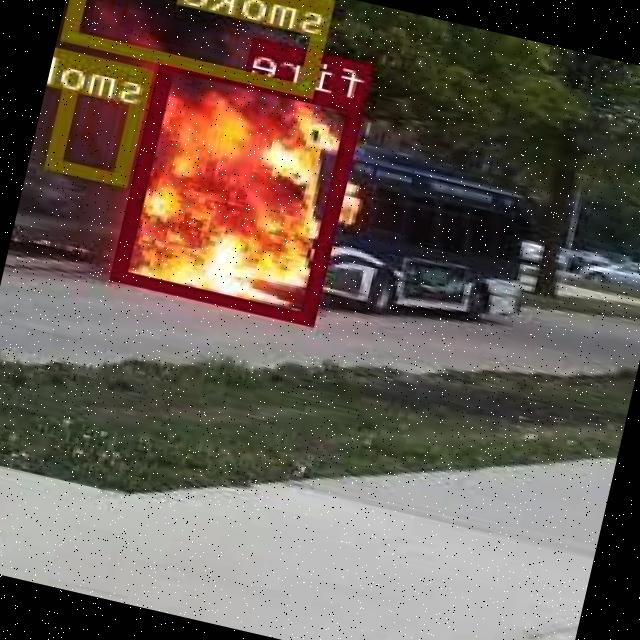fire: (116, 57, 366, 325)
smoke: (64, 0, 339, 97), (48, 49, 156, 184)
